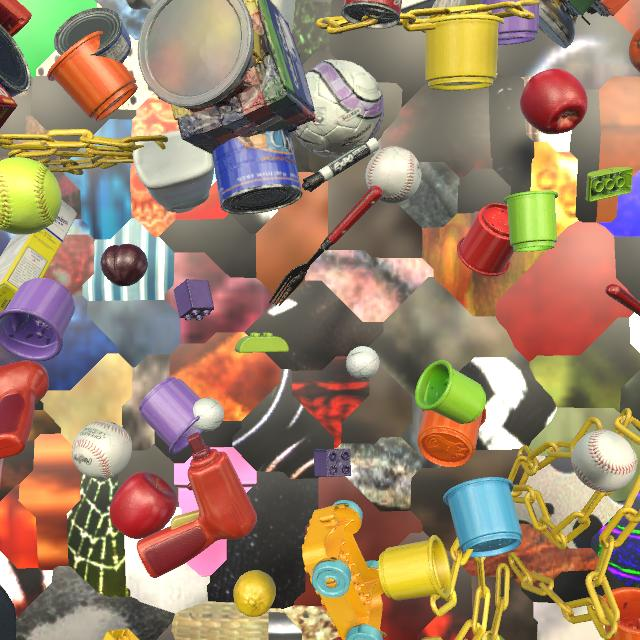ycb_002_master_chef_can: (212, 129, 303, 214), (0, 25, 31, 97)
ycb_003_cracker_box: (0, 84, 18, 129)
ycb_004_sugar_box: (0, 200, 77, 312), (367, 0, 436, 29)
ycb_005_tomato_soup_can: (341, 0, 402, 29)
ycb_007_tuna_fish_can: (54, 7, 131, 63)
ycb_009_gelatin_box: (0, 458, 4, 487)
ycb_012_strawberry: (332, 637, 342, 640)
ycb_013_apple: (109, 472, 178, 539), (520, 69, 588, 134)
ycb_014_lemon: (233, 570, 276, 617)
ycb_017_orange: (629, 27, 640, 72)
ycb_018_plum: (101, 244, 148, 287)
